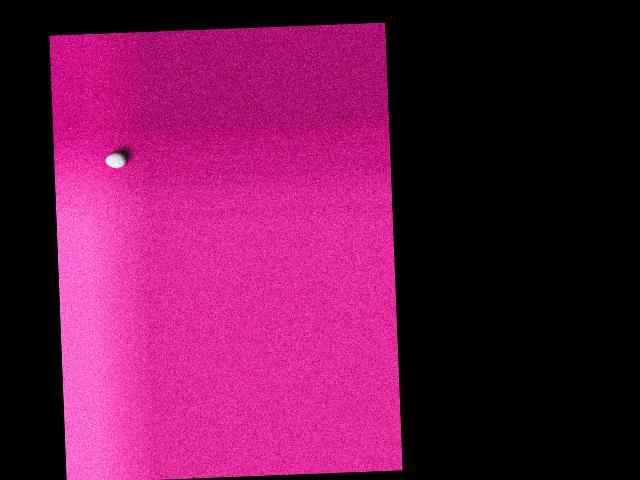egg: (105, 152, 126, 168)
